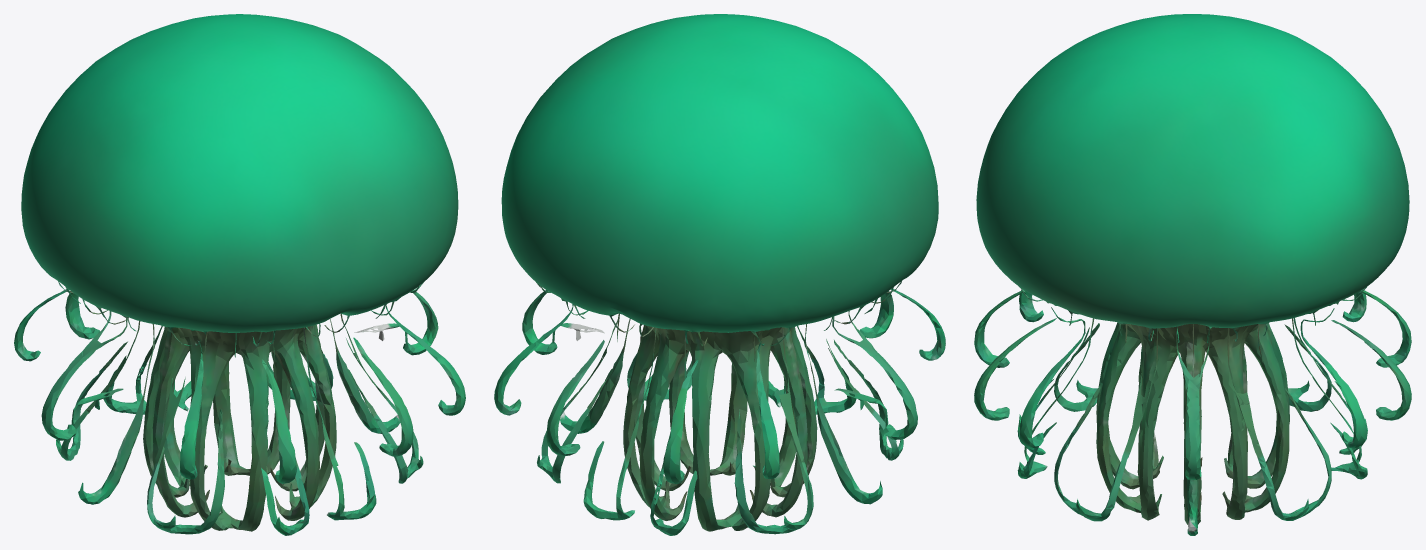
Rendered from SewerJellyfish.glb.
The picture shows the model from 3 angles, left to right: view 1: azimuth 30°, elevation 25°; view 2: azimuth 150°, elevation 25°; view 3: azimuth 270°, elevation 25°; orthographic projection.
Parts seen in each view (by area): view 1: SewerJellyfish; view 2: SewerJellyfish; view 3: SewerJellyfish.
Part boxes in pixels (x1=…): SewerJellyfish: x1=14, y1=14, x2=465, y2=535; SewerJellyfish: x1=494, y1=14, x2=945, y2=535; SewerJellyfish: x1=974, y1=14, x2=1411, y2=535.
Bounding box in the file's own units: 1.68 × 1.9 × 1.63.
Materials: 1 (1 with a texture image).
